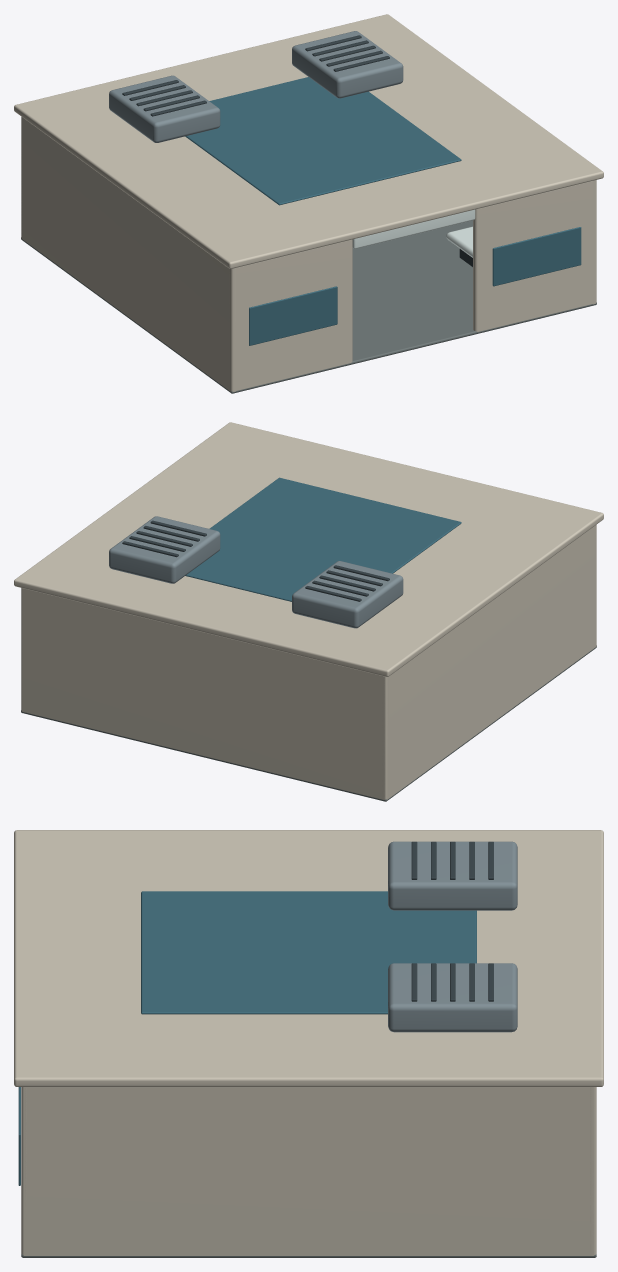
The model's file is clinic-module.glb.
The picture shows the model from 3 angles, top to bottom: view 1: azimuth 30°, elevation 25°; view 2: azimuth 150°, elevation 25°; view 3: azimuth 270°, elevation 25°; orthographic projection. The views are drawn at different scales.
Parts seen in each view (by area): view 1: Roof perimeter, Side wall, Skylight, Raised foundation, Entry wall.001, Entry wall, Roof HVAC, Roof HVAC.001, Front inset.001, Front inset, Entry lintel, Treatment bed.002; view 2: Roof perimeter, Rear structural wall, Side wall, Skylight, Roof HVAC, Roof HVAC.001, Raised foundation; view 3: Roof perimeter, Side wall.001, Skylight, Roof HVAC.001, Roof HVAC, Rear structural wall, Raised foundation.
Boxes of the visible parts, x1=… form: Roof perimeter: x1=14, y1=14, x2=603, y2=268; Side wall: x1=21, y1=117, x2=235, y2=391; Skylight: x1=185, y1=77, x2=461, y2=205; Raised foundation: x1=21, y1=220, x2=596, y2=393; Entry wall.001: x1=473, y1=181, x2=593, y2=331; Entry wall: x1=229, y1=239, x2=352, y2=390; Roof HVAC: x1=109, y1=75, x2=220, y2=142; Roof HVAC.001: x1=292, y1=31, x2=403, y2=98; Front inset.001: x1=492, y1=227, x2=581, y2=286; Front inset: x1=249, y1=286, x2=337, y2=345; Entry lintel: x1=352, y1=209, x2=475, y2=248; Treatment bed.002: x1=446, y1=226, x2=472, y2=257; Roof perimeter: x1=14, y1=422, x2=603, y2=676; Rear structural wall: x1=22, y1=588, x2=388, y2=799; Side wall: x1=382, y1=525, x2=596, y2=799; Skylight: x1=185, y1=477, x2=461, y2=601; Roof HVAC: x1=292, y1=561, x2=403, y2=628; Roof HVAC.001: x1=109, y1=516, x2=220, y2=583; Raised foundation: x1=21, y1=645, x2=596, y2=801; Roof perimeter: x1=14, y1=830, x2=603, y2=1086; Side wall.001: x1=21, y1=1087, x2=596, y2=1255; Skylight: x1=141, y1=891, x2=476, y2=1014; Roof HVAC.001: x1=388, y1=963, x2=517, y2=1032; Roof HVAC: x1=388, y1=841, x2=517, y2=910; Rear structural wall: x1=590, y1=1087, x2=596, y2=1255; Raised foundation: x1=21, y1=1254, x2=596, y2=1257.
Size of the model in its own units: 12.3 by 4.98 by 12.3.
